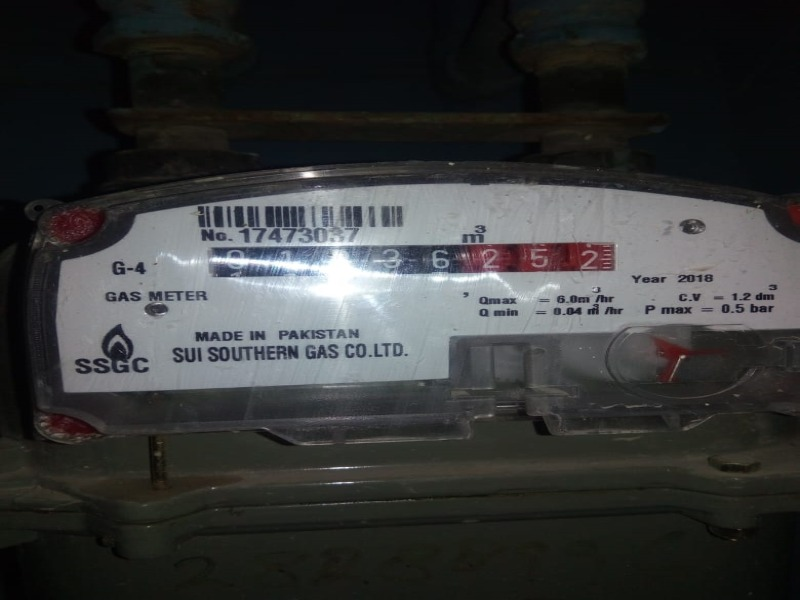ssgc: (204, 243, 620, 279)
